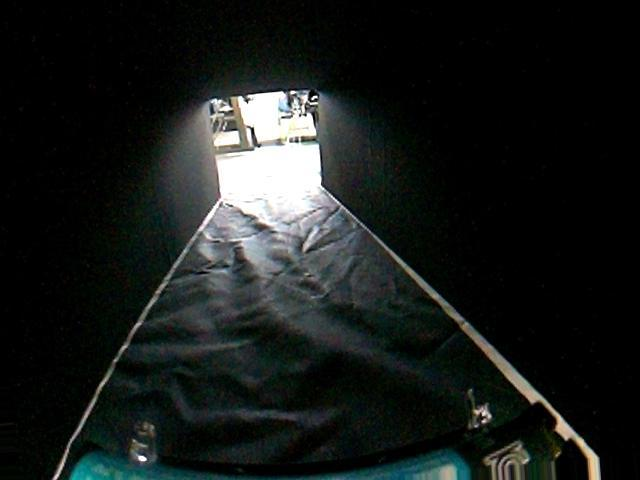straight: (5, 184, 615, 477)
